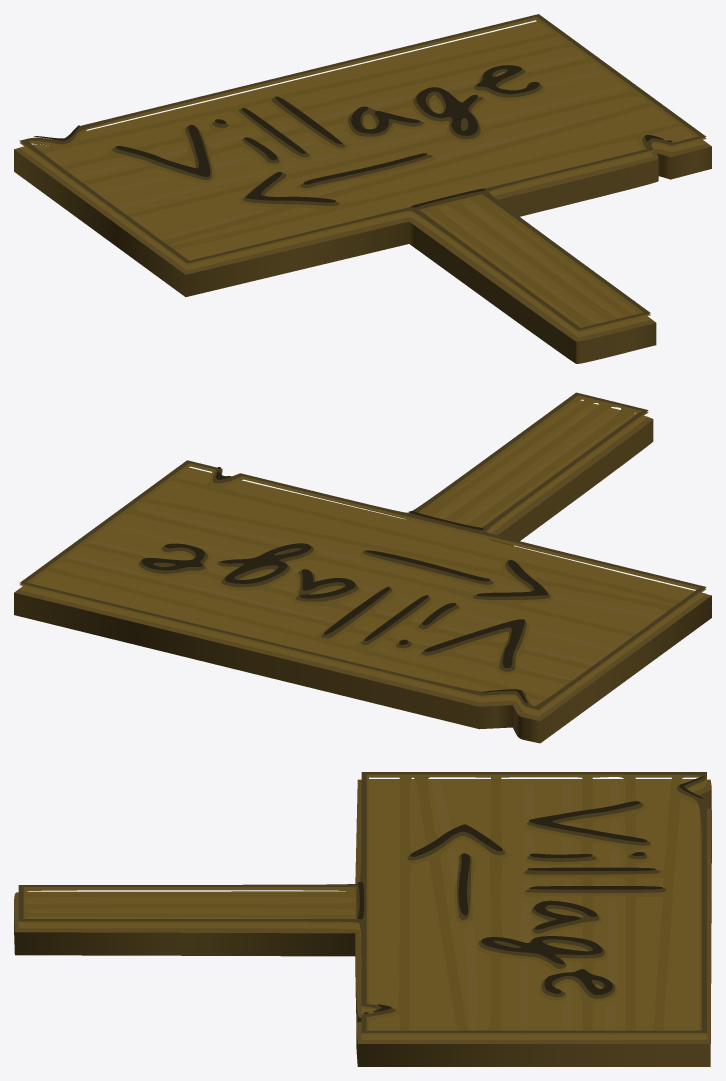
File: VillageSign.fbx
3 renders of one model, top to bottom at view 1: azimuth 30°, elevation 25°; view 2: azimuth 150°, elevation 25°; view 3: azimuth 270°, elevation 25°, orthographic. The views are drawn at different scales.
Parts seen in each view (by area): view 1: Curve.004, Curve.005, Curve.001, Curve.006, Curve.003, Curve.007; view 2: Curve.004, Curve.005, Curve.001, Curve.006, Curve.003, Curve.007; view 3: Curve.004, Curve.005, Curve.001, Curve.006, Curve.003, Curve.007.
Part boxes in pixels (box(x1,y1,x2,y2)): Curve.004: box(19, 21, 706, 337); Curve.005: box(19, 17, 706, 332); Curve.001: box(14, 120, 711, 363); Curve.006: box(19, 14, 706, 330); Curve.003: box(73, 56, 656, 329); Curve.007: box(34, 65, 672, 207); Curve.004: box(19, 400, 706, 716); Curve.005: box(19, 395, 705, 711); Curve.001: box(14, 417, 711, 743); Curve.006: box(19, 392, 706, 709); Curve.003: box(71, 407, 660, 702); Curve.007: box(141, 467, 547, 703); Curve.004: box(18, 779, 706, 1039); Curve.005: box(18, 774, 706, 1034); Curve.001: box(14, 779, 711, 1066); Curve.006: box(18, 772, 706, 1032); Curve.003: box(29, 781, 706, 1039); Curve.007: box(357, 776, 703, 1013).
Size of the model in its own units: 19.7 by 1.21 by 22.
